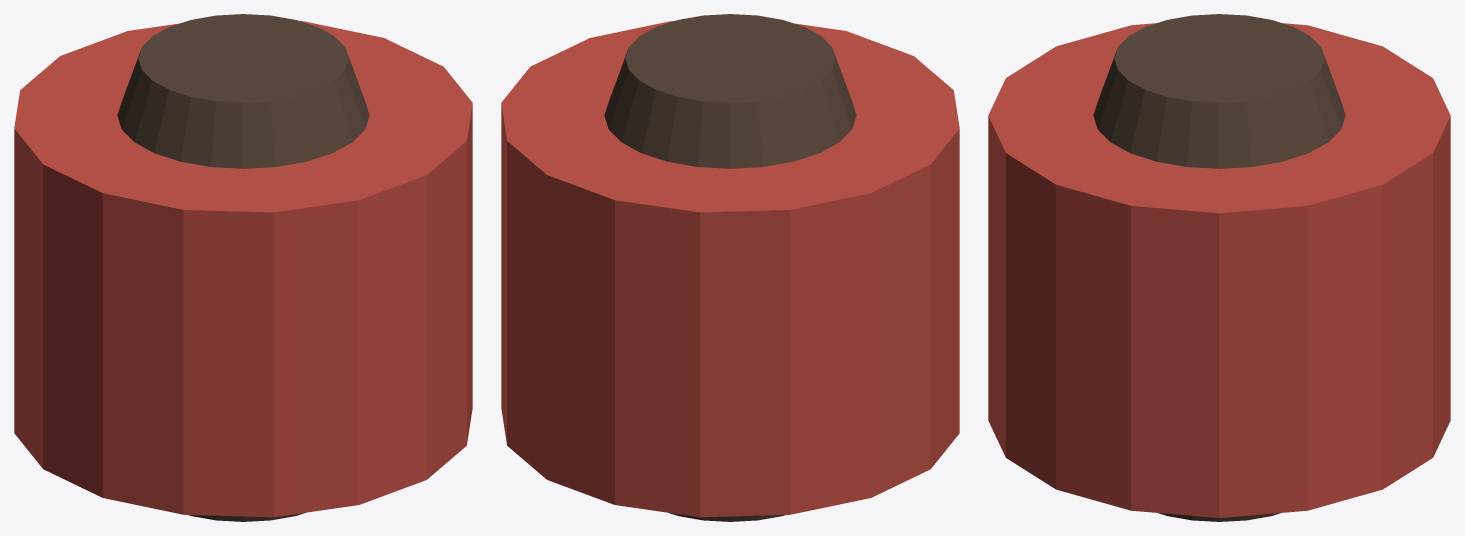
The model's file is hand_lantern.glb.
3 renders of one model, left to right at view 1: azimuth 30°, elevation 25°; view 2: azimuth 150°, elevation 25°; view 3: azimuth 270°, elevation 25°, orthographic.
Visible parts, largest first — view 1: SM_HandLantern; view 2: SM_HandLantern; view 3: SM_HandLantern.
Boxes of the visible parts, left/top/right/bottom form: SM_HandLantern: left=14, top=14, right=472, bottom=521; SM_HandLantern: left=501, top=14, right=959, bottom=521; SM_HandLantern: left=988, top=14, right=1450, bottom=521.
Size of the model in its own units: 0.22 by 0.22 by 0.22.
